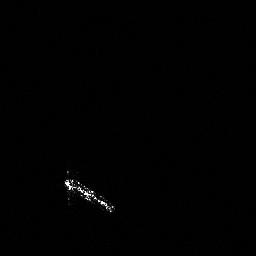ship: (60, 167, 118, 218)
